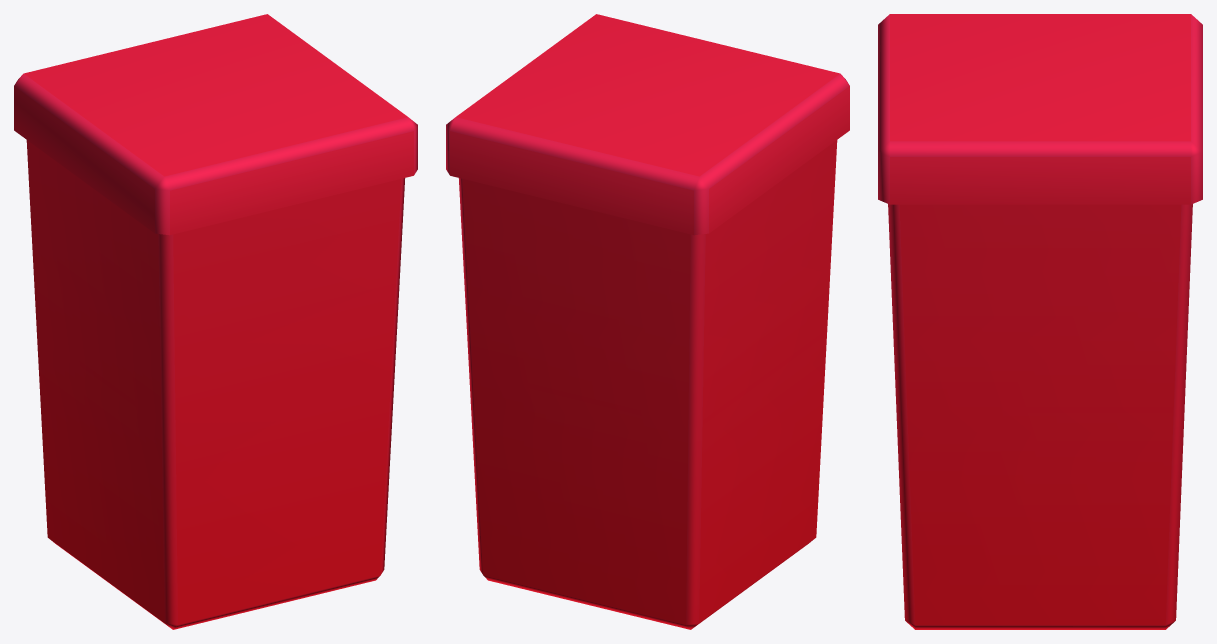
The model's file is giftbox_037.fbx.
The picture shows the model from 3 angles, left to right: view 1: azimuth 30°, elevation 25°; view 2: azimuth 150°, elevation 25°; view 3: azimuth 270°, elevation 25°; orthographic projection. The views are drawn at different scales.
Visible parts, largest first — view 1: giftbox_037; view 2: giftbox_037; view 3: giftbox_037.
Boxes of the visible parts, bbox=[...] form: giftbox_037: bbox=[14, 14, 417, 629]; giftbox_037: bbox=[446, 14, 849, 629]; giftbox_037: bbox=[878, 14, 1202, 629].
Size of the model in its own units: 234 by 234 by 397.
